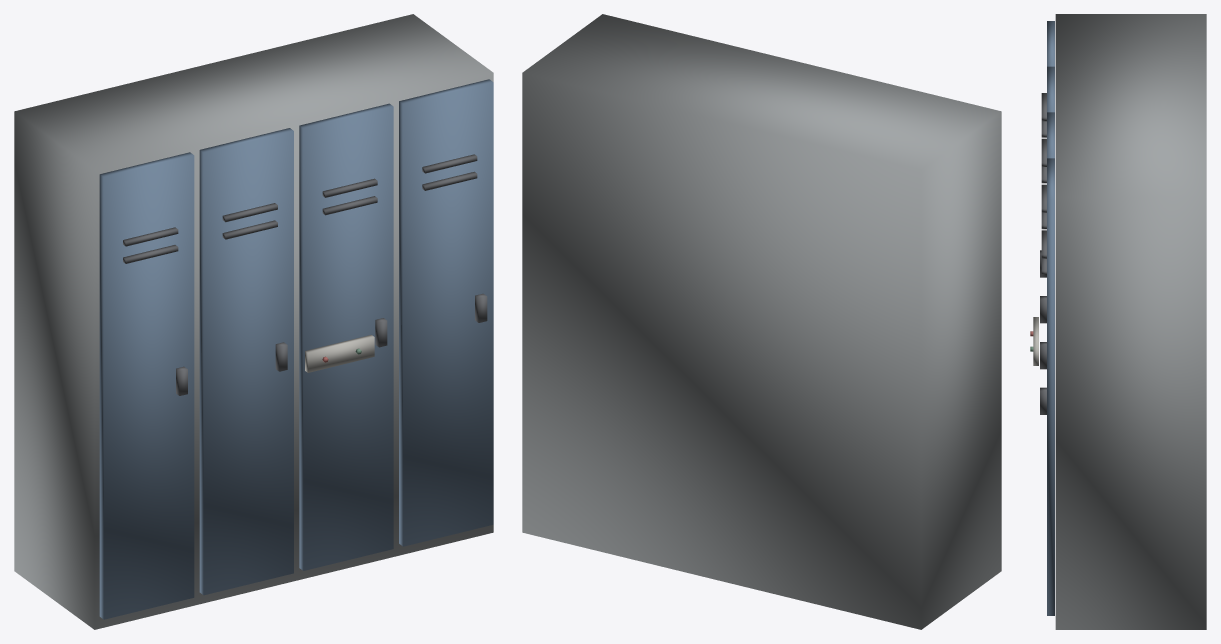
File: locker_bank__deep.glb
3 views of the same model, side by side, from view 1: azimuth 30°, elevation 25°; view 2: azimuth 150°, elevation 25°; view 3: azimuth 270°, elevation 25° (orthographic). The views are drawn at different scales.
Parts seen in each view (by area): view 1: world; view 2: world; view 3: world.
Part boxes in pixels (x1=…): world: x1=14, y1=14, x2=493, y2=629; world: x1=522, y1=14, x2=1001, y2=629; world: x1=1030, y1=14, x2=1206, y2=629.
Bounding box in the file's own units: 1.68 × 1.85 × 0.6844.
